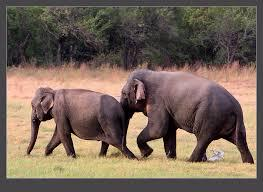elephant: (26, 69, 253, 162)
